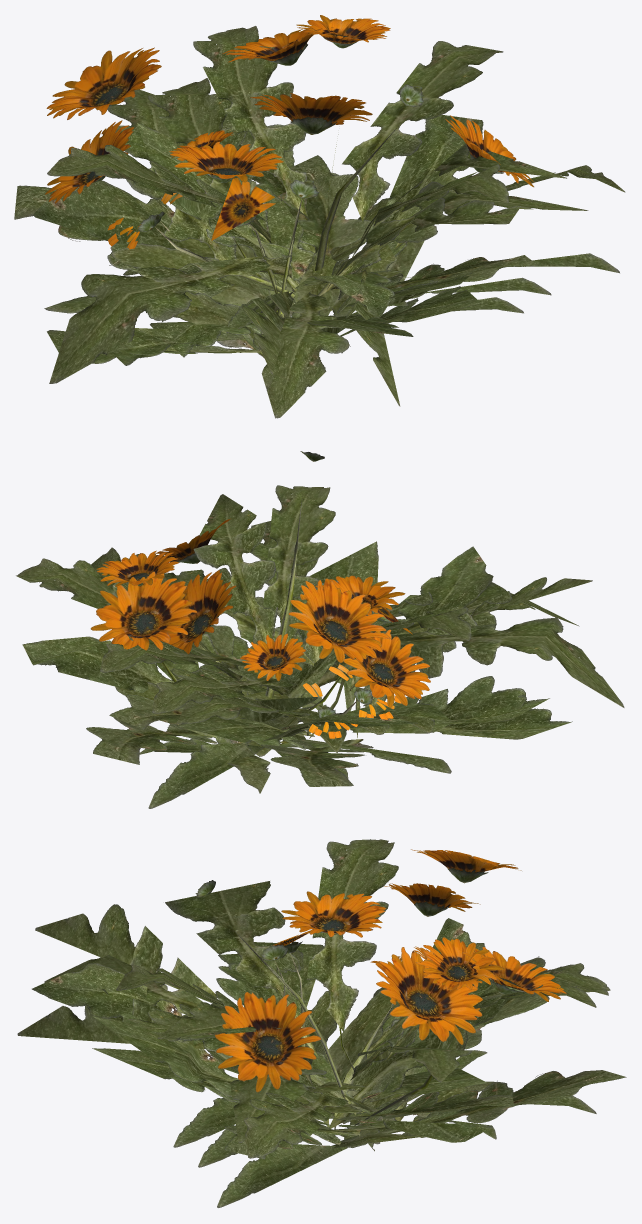
Rendered from gazania.glb.
3 renders of one model, top to bottom at view 1: azimuth 30°, elevation 25°; view 2: azimuth 150°, elevation 25°; view 3: azimuth 270°, elevation 25°, orthographic. The views are drawn at different scales.
Visible parts, largest first — view 1: flower_gazania_h_LOD0, flower_gazania_g_LOD0, flower_gazania_f_LOD0, flower_gazania_e_LOD0; view 2: flower_gazania_h_LOD0, flower_gazania_f_LOD0, flower_gazania_g_LOD0, flower_gazania_e_LOD0; view 3: flower_gazania_h_LOD0, flower_gazania_f_LOD0, flower_gazania_g_LOD0, flower_gazania_e_LOD0.
Part boxes in pixels (x1=…): flower_gazania_h_LOD0: x1=46, y1=15, x2=625, y2=406; flower_gazania_g_LOD0: x1=111, y1=18, x2=551, y2=418; flower_gazania_f_LOD0: x1=14, y1=89, x2=588, y2=374; flower_gazania_e_LOD0: x1=33, y1=130, x2=537, y2=333; flower_gazania_h_LOD0: x1=16, y1=451, x2=624, y2=808; flower_gazania_f_LOD0: x1=157, y1=546, x2=592, y2=786; flower_gazania_g_LOD0: x1=90, y1=518, x2=579, y2=738; flower_gazania_e_LOD0: x1=115, y1=575, x2=451, y2=793; flower_gazania_h_LOD0: x1=17, y1=839, x2=626, y2=1207; flower_gazania_f_LOD0: x1=32, y1=883, x2=610, y2=1147; flower_gazania_g_LOD0: x1=44, y1=930, x2=596, y2=1167; flower_gazania_e_LOD0: x1=178, y1=891, x2=496, y2=1159.
Bounding box in the file's own units: 0.3361 × 0.1507 × 0.3163.
1 material, 1 textured.
